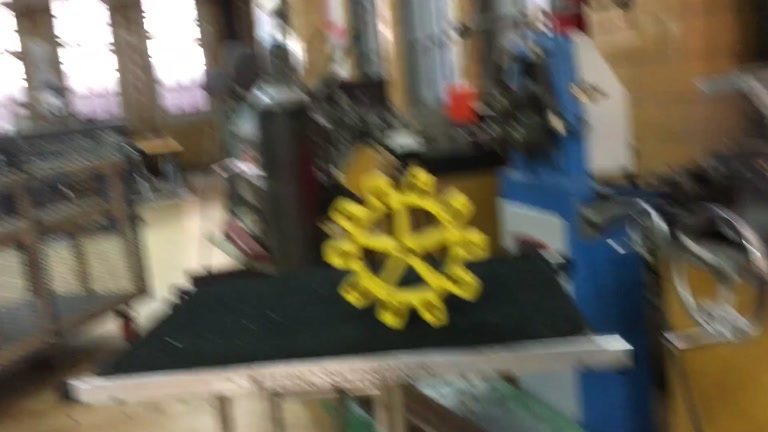gear: (320, 165, 492, 331)
